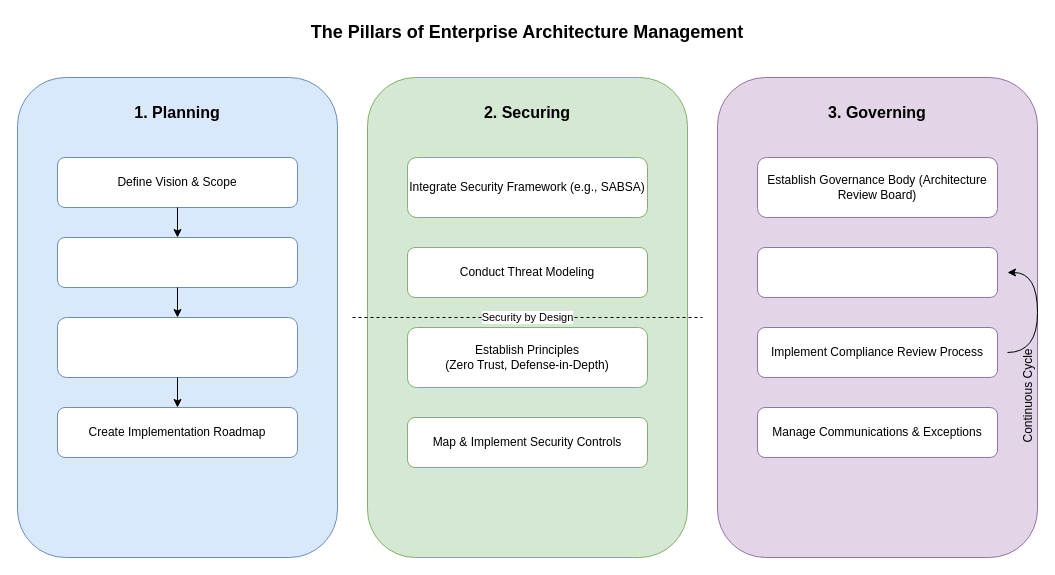
This 1055x575 diagram has some shape labels left out. The shapes that lost their labels are listed below. From the top down, each one's centre as x and y in pixels, then its label:
[177,262]: Select Framework (e.g., TOGAF)
[877,272]: Define Principles & Standards
[177,347]: Develop Baseline (As-Is) & Target (To-Be) Architectures
